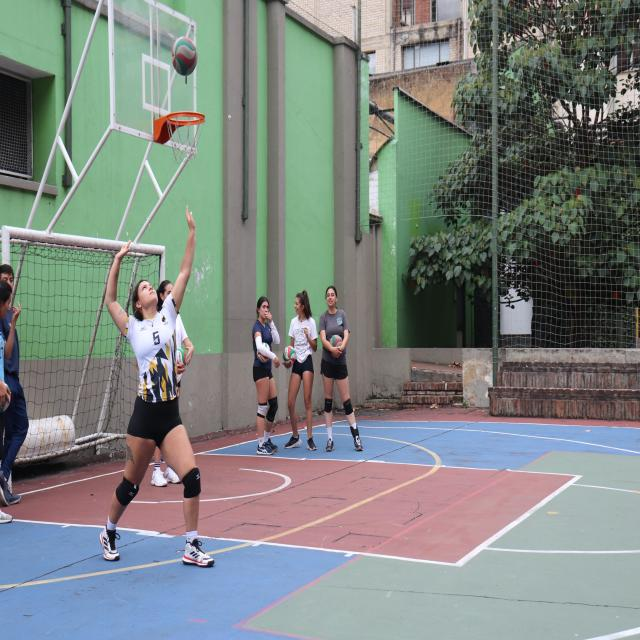volleyball: (170, 36, 198, 76), (282, 346, 296, 366), (177, 347, 187, 371), (330, 335, 342, 347)
